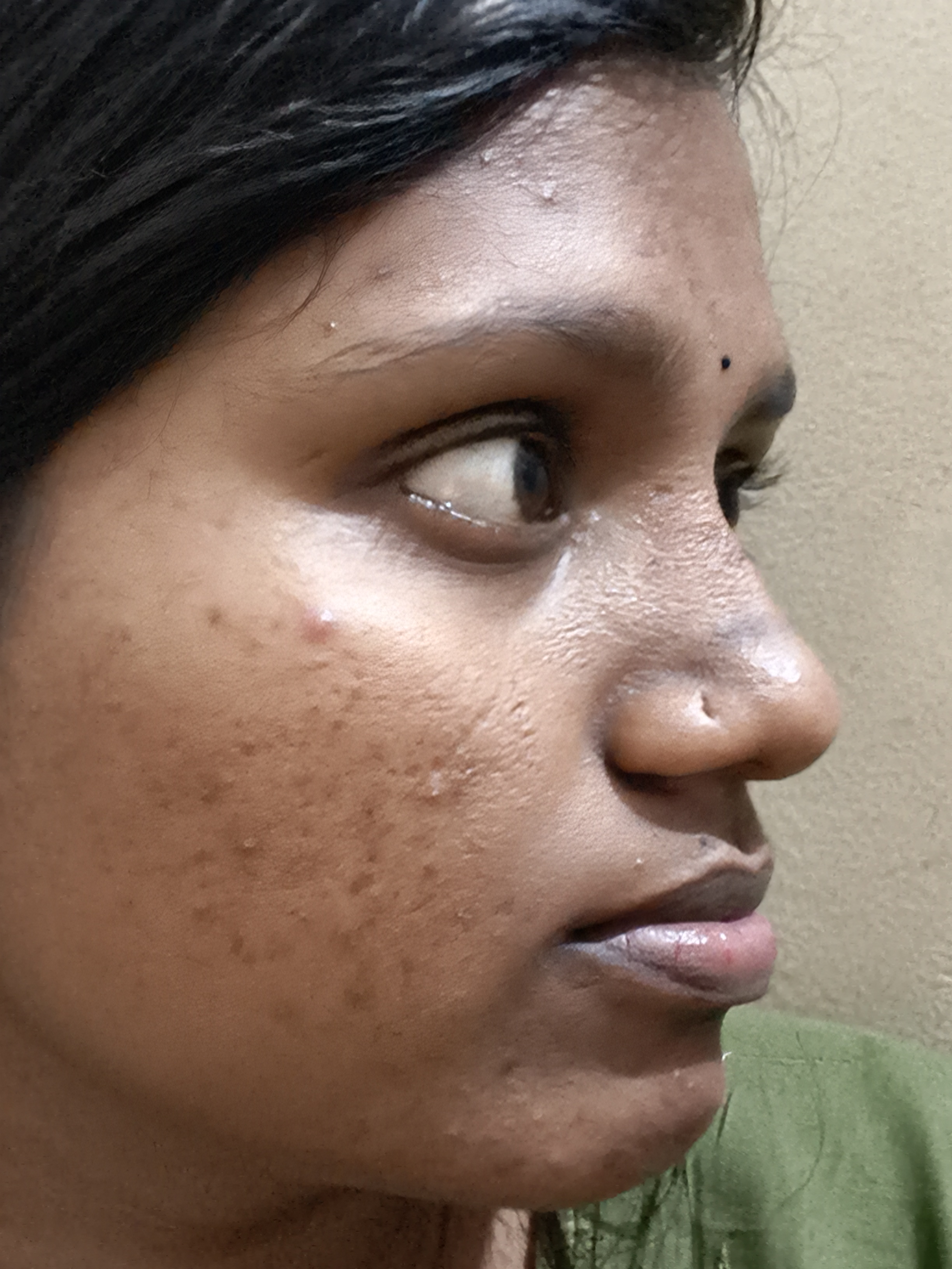closed_comedone: (630, 487, 679, 541)
macrocomedone: (314, 311, 349, 340)
papule: (300, 607, 342, 648), (230, 828, 273, 860), (537, 182, 562, 215), (478, 148, 498, 177)
pustule: (418, 775, 461, 808)
